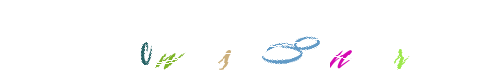8: (232, 0, 312, 80)
C: (104, 0, 184, 80)
N: (243, 0, 323, 80)
R: (300, 0, 380, 80)
S: (216, 0, 296, 80)
W: (204, 0, 284, 80)
